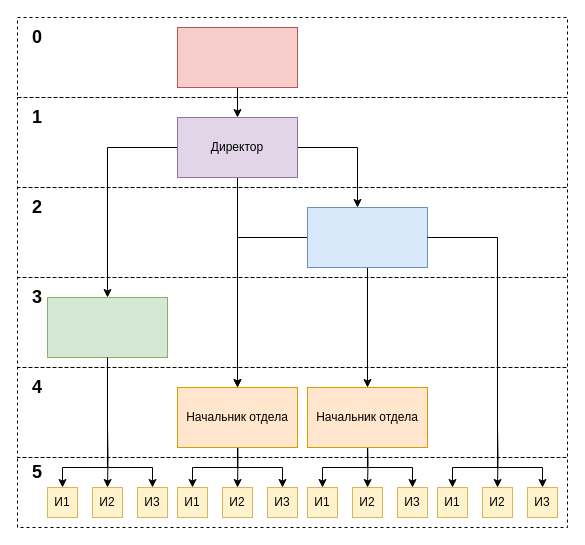
Image size: 585x545. Some labels were removed from this diagram. Each missing label, with the centre of its shape:
"Главный Бухгалтер" belongs at (107,327).
"Руководитель отдела безопасности" belongs at (367,237).
"Учредитель" belongs at (237,57).
